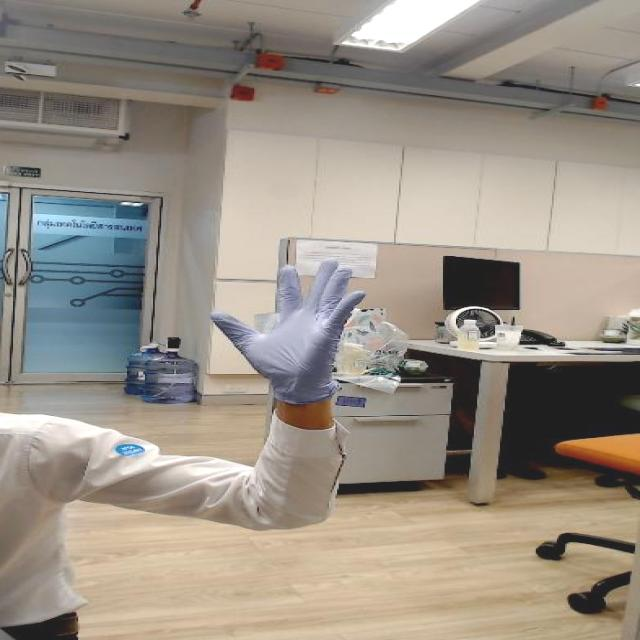glove: (201, 243, 395, 388)
